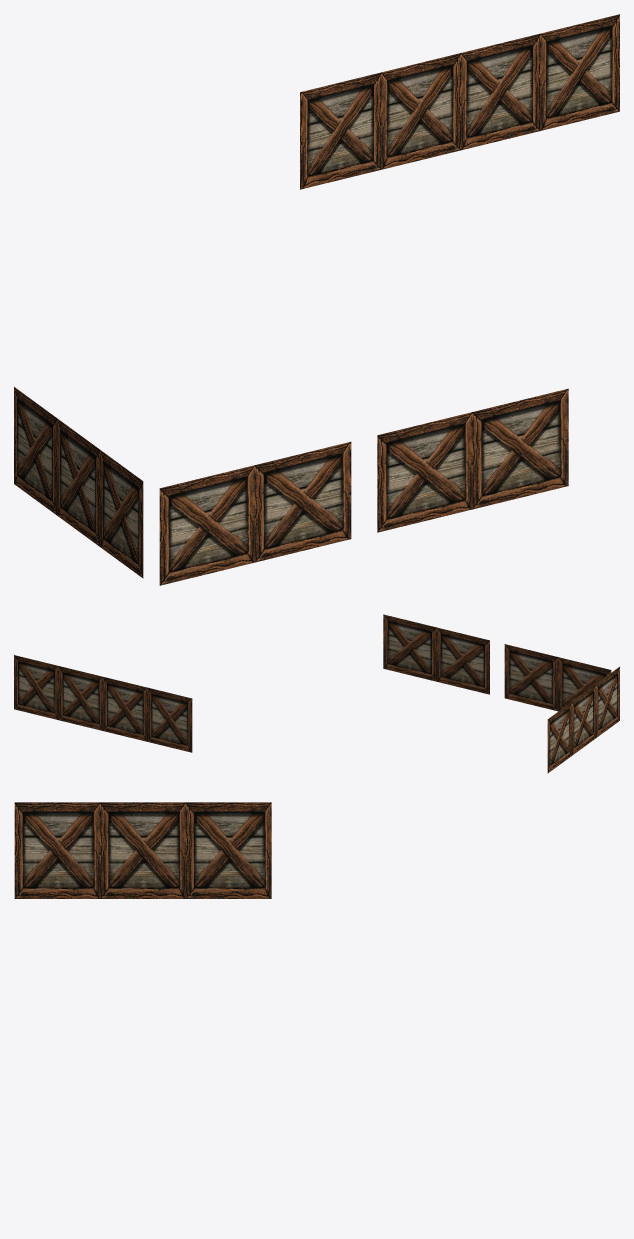
File: LAKETOWN_EXTERIOR_PS_LT_PANELS2719.fbx
3 renders of one model, top to bottom at view 1: azimuth 30°, elevation 25°; view 2: azimuth 150°, elevation 25°; view 3: azimuth 270°, elevation 25°, orthographic. The views are drawn at different scales.
Parts seen in each view (by area): view 1: LAKETOWN_EXTERIOR_PS_LT_PANELS2719; view 2: LAKETOWN_EXTERIOR_PS_LT_PANELS2719; view 3: LAKETOWN_EXTERIOR_PS_LT_PANELS2719.
Part boxes in pixels (box(x1,y1,x2,y2)): LAKETOWN_EXTERIOR_PS_LT_PANELS2719: box(14, 14, 619, 585); LAKETOWN_EXTERIOR_PS_LT_PANELS2719: box(14, 614, 619, 773); LAKETOWN_EXTERIOR_PS_LT_PANELS2719: box(14, 802, 271, 898).
Size of the model in its own units: 85952 by 16936 by 58181.
Materials: 1 (1 with a texture image).
